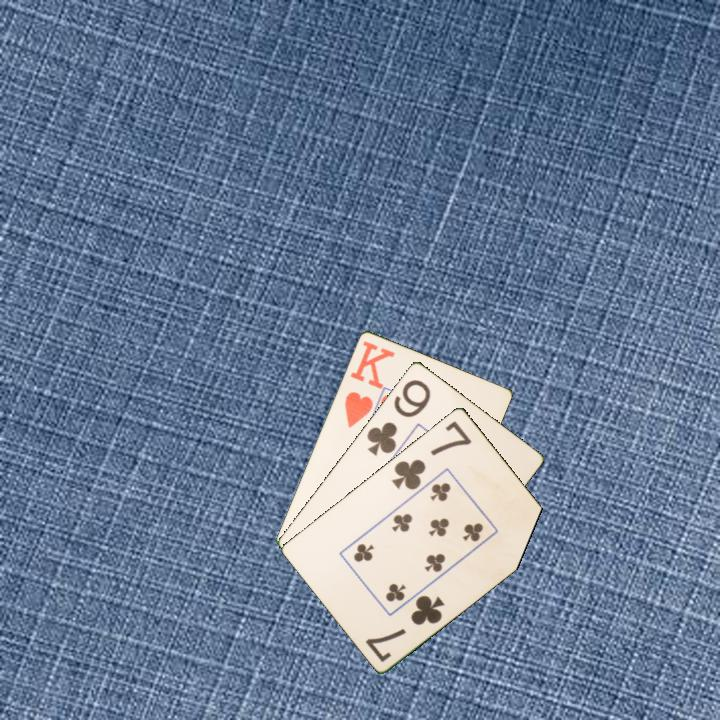7c: (388, 417, 475, 493), (362, 591, 448, 665)
9c: (363, 375, 434, 459)
Kh: (341, 337, 397, 430)
